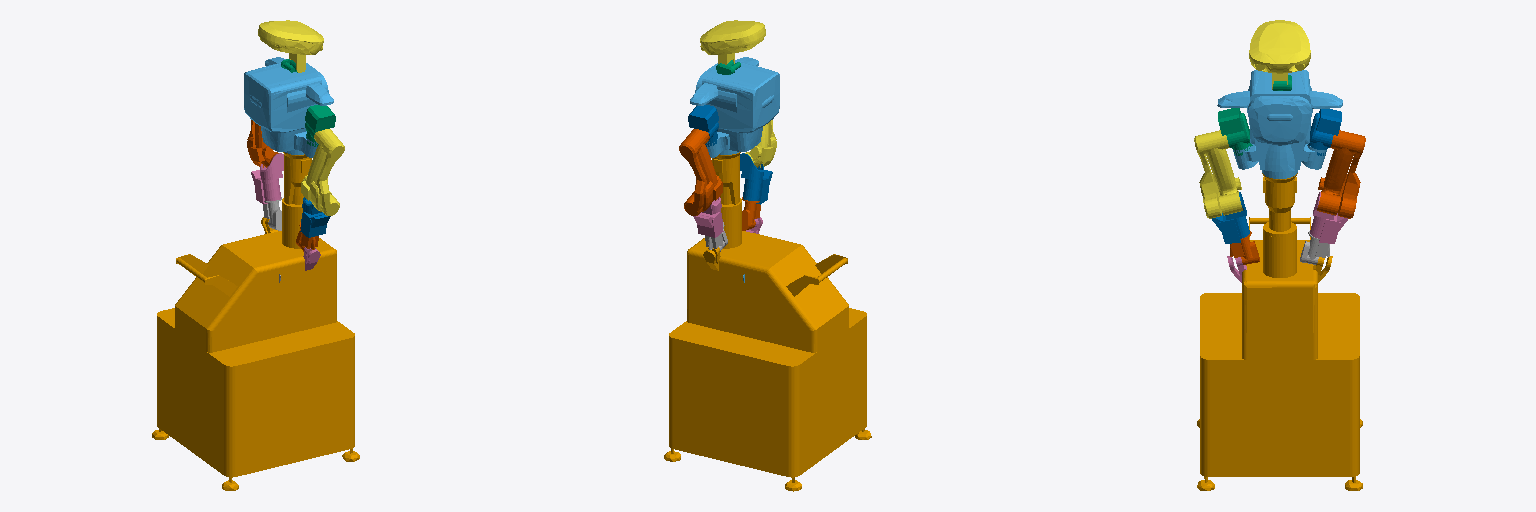
--- Render facts (derived) ---
Views: 3 orthographic renders of the robot side by side, from view 1: azimuth 30°, elevation 25°; view 2: azimuth 150°, elevation 25°; view 3: azimuth 270°, elevation 25°.
Robot: NextageOpen — 16 links, 15 joints (15 revolute); root link WAIST; default pose: every joint at zero.
Links seen in each view (by area): view 1: WAIST, CHEST_JOINT0_Link, RARM_JOINT1_Link, HEAD_JOINT1_Link, LARM_JOINT2_Link, RARM_JOINT0_Link, RARM_JOINT2_Link, LARM_JOINT1_Link; view 2: WAIST, CHEST_JOINT0_Link, LARM_JOINT1_Link, HEAD_JOINT1_Link, RARM_JOINT2_Link, LARM_JOINT0_Link, LARM_JOINT2_Link, RARM_JOINT1_Link; view 3: WAIST, CHEST_JOINT0_Link, HEAD_JOINT1_Link, LARM_JOINT1_Link, RARM_JOINT1_Link, RARM_JOINT0_Link, LARM_JOINT0_Link, LARM_JOINT2_Link, RARM_JOINT2_Link, LARM_JOINT3_Link, RARM_JOINT3_Link.
Boxes of the visible links, x1,y1,x2,y2 form: WAIST: (152, 152, 359, 490); CHEST_JOINT0_Link: (244, 57, 333, 157); RARM_JOINT1_Link: (301, 129, 344, 215); HEAD_JOINT1_Link: (258, 20, 323, 72); LARM_JOINT2_Link: (251, 153, 283, 204); RARM_JOINT0_Link: (305, 105, 335, 146); RARM_JOINT2_Link: (300, 197, 330, 237); LARM_JOINT1_Link: (247, 120, 278, 167); WAIST: (664, 152, 871, 491); CHEST_JOINT0_Link: (690, 57, 779, 157); LARM_JOINT1_Link: (679, 129, 722, 215); HEAD_JOINT1_Link: (700, 20, 765, 64); RARM_JOINT2_Link: (740, 153, 772, 204); LARM_JOINT0_Link: (688, 105, 718, 146); LARM_JOINT2_Link: (693, 197, 723, 237); RARM_JOINT1_Link: (745, 120, 776, 167); WAIST: (1197, 173, 1362, 490); CHEST_JOINT0_Link: (1217, 70, 1342, 178); HEAD_JOINT1_Link: (1249, 20, 1310, 89); LARM_JOINT1_Link: (1317, 130, 1365, 218); RARM_JOINT1_Link: (1194, 130, 1242, 218); RARM_JOINT0_Link: (1218, 108, 1252, 155); LARM_JOINT0_Link: (1308, 109, 1341, 155); LARM_JOINT2_Link: (1310, 192, 1347, 243); RARM_JOINT2_Link: (1212, 192, 1249, 243); LARM_JOINT3_Link: (1300, 231, 1329, 264); RARM_JOINT3_Link: (1230, 231, 1259, 264).
Size in the robot's own frame: 0.5874 by 0.6096 by 1.73 metres.
16 mesh visuals loaded from 16 distinct referenced files (16 OBJ).

The robot description file, URDF, robot "NextageOpen":
<?xml version="1.0" ?>
<!-- =================================================================================== -->
<!-- |    This document was autogenerated by xacro from ./core/nextage_description/urdf/NextageOpenObj.urdf | -->
<!-- |    EDITING THIS FILE BY HAND IS NOT RECOMMENDED                                 | -->
<!-- =================================================================================== -->
<robot name="NextageOpen" xmlns:body="http://playerstage.sourceforge.net/gazebo/xmlschema/#body" xmlns:controller="http://playerstage.sourceforge.net/gazebo/xmlschema/#controller" xmlns:gazebo="http://playerstage.sourceforge.net/gazebo/xmlschema/#gz" xmlns:geom="http://playerstage.sourceforge.net/gazebo/xmlschema/#geom" xmlns:interface="http://playerstage.sourceforge.net/gazebo/xmlschema/#interface" xmlns:joint="http://playerstage.sourceforge.net/gazebo/xmlschema/#joint" xmlns:model="http://playerstage.sourceforge.net/gazebo/xmlschema/#model" xmlns:physics="http://playerstage.sourceforge.net/gazebo/xmlschema/#physics" xmlns:renderable="http://playerstage.sourceforge.net/gazebo/xmlschema/#renderable" xmlns:rendering="http://playerstage.sourceforge.net/gazebo/xmlschema/#rendering" xmlns:sensor="http://playerstage.sourceforge.net/gazebo/xmlschema/#sensor" xmlns:xi="http://www.w3.org/2001/XInclude">
  <material name="Black">
    <color rgba="0.0 0.0 0.0 1.0"/>
  </material>
  <material name="Blue">
    <color rgba="0.0 0.0 0.8 1.0"/>
  </material>
  <material name="Green">
    <color rgba="0.0 0.8 0.0 1.0"/>
  </material>
  <material name="LightGrey">
    <color rgba="0.6 0.6 0.6 1.0"/>
  </material>
  <material name="Grey">
    <color rgba="0.4 0.4 0.4 1.0"/>
  </material>
  <material name="DarkGrey">
    <color rgba="0.2 0.2 0.2 1.0"/>
  </material>
  <material name="Red">
    <color rgba="0.8 0.0 0.0 1.0"/>
  </material>
  <material name="White">
    <color rgba="1.0 1.0 1.0 1.0"/>
  </material>
  <gazebo reference="gazebo_WAIST">
    <material>Gazebo/Black</material>
  </gazebo>
  <link name="WAIST">
    <visual>
      <origin rpy="0 -0 0" xyz="0 0 0.97"/>
      <geometry>
        <mesh filename="package://nextage_description/urdf/meshes/WAIST_Link_mesh.obj" scale="1 1 1"/>
      </geometry>
    </visual>
    <collision>
      <origin rpy="0 -0 0" xyz="0 0 0.97"/>
      <geometry>
        <mesh filename="package://nextage_description/urdf/meshes/WAIST_Link_mesh.obj" scale="1 1 1"/>
      </geometry>
    </collision>
    <inertial>
      <mass value="1000"/>
      <origin rpy="0 -0 0" xyz="0 0 0"/>
      <inertia ixx="20" ixy="0" ixz="0" iyy="20" iyz="0" izz="20"/>
    </inertial>
  </link>
  <gazebo reference="gazebo_CHEST_JOINT0_Link">
    <material>Gazebo/Black</material>
  </gazebo>
  <link name="CHEST_JOINT0_Link">
    <visual>
      <origin rpy="0 -0 0" xyz="0 0 0"/>
      <geometry>
        <mesh filename="package://nextage_description/urdf/meshes/CHEST_JOINT0_Link_mesh.obj" scale="1 1 1"/>
      </geometry>
    </visual>
    <collision>
      <origin rpy="0 -0 0" xyz="0 0 0"/>
      <geometry>
        <mesh filename="package://nextage_description/urdf/meshes/CHEST_JOINT0_Link_mesh.obj" scale="1 1 1"/>
      </geometry>
    </collision>
    <inertial>
      <mass value="3.0"/>
      <origin rpy="0 -0 0" xyz="0 0 0"/>
      <inertia ixx="0.0639575" ixy="-0.00022833" ixz="0.00011172" iyy="0.0310845" iyz="6.48e-05" izz="0.0501107"/>
    </inertial>
  </link>
  <gazebo reference="gazebo_HEAD_JOINT0_Link">
    <material>Gazebo/Black</material>
  </gazebo>
  <link name="HEAD_JOINT0_Link">
    <visual>
      <origin rpy="0 -0 0" xyz="0 0 0.5695"/>
      <geometry>
        <mesh filename="package://nextage_description/urdf/meshes/HEAD_JOINT0_Link_mesh.obj" scale="1 1 1"/>
      </geometry>
    </visual>
    <collision>
      <origin rpy="0 -0 0" xyz="0 0 0.5695"/>
      <geometry>
        <mesh filename="package://nextage_description/urdf/meshes/HEAD_JOINT0_Link_mesh.obj" scale="1 1 1"/>
      </geometry>
    </collision>
    <inertial>
      <mass value="0.317929"/>
      <origin rpy="0 -0 0" xyz="-2.292e-05 0.00547848 -0.00784016"/>
      <inertia ixx="0.00027682" ixy="3e-08" ixz="-3.3e-07" iyy="0.00013009" iyz="-1.092e-05" izz="0.00020954"/>
    </inertial>
  </link>
  <gazebo reference="gazebo_HEAD_JOINT1_Link">
    <material>Gazebo/Black</material>
  </gazebo>
  <link name="HEAD_JOINT1_Link">
    <visual>
      <origin rpy="0 -0 0" xyz="0 0 0"/>
      <geometry>
        <mesh filename="package://nextage_description/urdf/meshes/HEAD_JOINT1_Link_mesh.obj" scale="1 1 1"/>
      </geometry>
    </visual>
    <collision>
      <origin rpy="0 -0 0" xyz="0 0 0"/>
      <geometry>
        <mesh filename="package://nextage_description/urdf/meshes/HEAD_JOINT1_Link_mesh.obj" scale="1 1 1"/>
      </geometry>
    </collision>
    <inertial>
      <mass value="0.0808593"/>
      <!-- <origin xyz="5.02e-06 -0.0166777 0.0163153" rpy="0 -0 0"/> -->
      <!-- <inertia ixx="8.07e-05" ixy="-3e-08" ixz="-4.30134e-22" iyy="3.025e-05" iyz="-1.277e-05" izz="6.637e-05"/> -->
      <inertia ixx="1e-3" ixy="0" ixz="0" iyy="1e-3" iyz="0" izz="1e-3"/>
    </inertial>
  </link>
  <gazebo reference="gazebo_LARM_JOINT0_Link">
    <material>Gazebo/Black</material>
  </gazebo>
  <link name="LARM_JOINT0_Link">
    <visual>
      <origin rpy="-0.261799 0 0" xyz="0 0.145 0.370296"/>
      <geometry>
        <mesh filename="package://nextage_description/urdf/meshes/LARM_JOINT0_Link_mesh.obj" scale="1 1 1"/>
      </geometry>
    </visual>
    <collision>
      <origin rpy="-0.261799 0 0" xyz="0 0.145 0.370296"/>
      <geometry>
        <mesh filename="package://nextage_description/urdf/meshes/LARM_JOINT0_Link_mesh.obj" scale="1 1 1"/>
      </geometry>
    </collision>
    <inertial>
      <mass value="1.32626"/>
      <origin rpy="0 -0 0" xyz="-0.00226388 -0.00521383 0.0156081"/>
      <inertia ixx="0.00207537" ixy="0.00011276" ixz="8.927e-05" iyy="0.00240295" iyz="-4.57e-05" izz="0.00141912"/>
    </inertial>
  </link>
  <gazebo reference="gazebo_LARM_JOINT1_Link">
    <material>Gazebo/Black</material>
  </gazebo>
  <link name="LARM_JOINT1_Link">
    <visual>
      <origin rpy="0 -0 0" xyz="0 0 0"/>
      <geometry>
        <mesh filename="package://nextage_description/urdf/meshes/LARM_JOINT1_Link_mesh.obj" scale="1 1 1"/>
      </geometry>
    </visual>
    <collision>
      <origin rpy="0 -0 0" xyz="0 0 0"/>
      <geometry>
        <mesh filename="package://nextage_description/urdf/meshes/LARM_JOINT1_Link_mesh.obj" scale="1 1 1"/>
      </geometry>
    </collision>
    <inertial>
      <mass value="1.14898"/>
      <origin rpy="0 -0 0" xyz="-5.236e-05 0.0583134 -0.107061"/>
      <inertia ixx="0.0154168" ixy="9.95417e-07" ixz="3.38147e-06" iyy="0.0147117" iyz="0.00213719" izz="0.0012658"/>
    </inertial>
  </link>
  <gazebo reference="gazebo_LARM_JOINT2_Link">
    <material>Gazebo/Black</material>
  </gazebo>
  <link name="LARM_JOINT2_Link">
    <visual>
      <origin rpy="0 -0 0" xyz="0 0.095 -0.25"/>
      <geometry>
        <mesh filename="package://nextage_description/urdf/meshes/LARM_JOINT2_Link_mesh.obj" scale="1 1 1"/>
      </geometry>
    </visual>
    <collision>
      <origin rpy="0 -0 0" xyz="0 0.095 -0.25"/>
      <geometry>
        <mesh filename="package://nextage_description/urdf/meshes/LARM_JOINT2_Link_mesh.obj" scale="1 1 1"/>
      </geometry>
    </collision>
    <inertial>
      <mass value="0.577518"/>
      <origin rpy="0 -0 0" xyz="-2.254e-05 0.00167107 -0.0715116"/>
      <inertia ixx="0.00143966" ixy="-3e-07" ixz="1.2e-06" iyy="0.00141763" iyz="-7.596e-05" izz="0.0001972"/>
    </inertial>
  </link>
  <gazebo reference="gazebo_LARM_JOINT3_Link">
    <material>Gazebo/Black</material>
  </gazebo>
  <link name="LARM_JOINT3_Link">
    <visual>
      <origin rpy="0 -0 0" xyz="-0.03 0 0"/>
      <geometry>
        <mesh filename="package://nextage_description/urdf/meshes/LARM_JOINT3_Link_mesh.obj" scale="1 1 1"/>
      </geometry>
    </visual>
    <collision>
      <origin rpy="0 -0 0" xyz="-0.03 0 0"/>
      <geometry>
        <mesh filename="package://nextage_description/urdf/meshes/LARM_JOINT3_Link_mesh.obj" scale="1 1 1"/>
      </geometry>
    </collision>
    <inertial>
      <mass value="0.457418"/>
      <origin rpy="0 -0 0" xyz="-1.788e-05 -0.00395812 -0.20273"/>
      <inertia ixx="0.00069205" ixy="3e-08" ixz="5.2e-07" iyy="0.00068903" iyz="-1.915e-05" izz="0.00013509"/>
    </inertial>
  </link>
  <gazebo reference="gazebo_LARM_JOINT4_Link">
    <material>Gazebo/Black</material>
  </gazebo>
  <link name="LARM_JOINT4_Link">
    <visual>
      <origin rpy="0 -0 0" xyz="0 0 -0.235"/>
      <geometry>
        <mesh filename="package://nextage_description/urdf/meshes/LARM_JOINT4_Link_mesh.obj" scale="1 1 1"/>
      </geometry>
    </visual>
    <collision>
      <origin rpy="0 -0 0" xyz="0 0 -0.235"/>
      <geometry>
        <mesh filename="package://nextage_description/urdf/meshes/LARM_JOINT4_Link_mesh.obj" scale="1 1 1"/>
      </geometry>
    </collision>
    <inertial>
      <mass value="0.418434"/>
      <origin rpy="0 -0 0" xyz="0.00243131 0.00379733 -0.0577036"/>
      <inertia ixx="0.00052016" ixy="1.69e-06" ixz="7.9e-06" iyy="0.00050569" iyz="-5.377e-05" izz="0.00014004"/>
    </inertial>
  </link>
  <gazebo reference="gazebo_LARM_JOINT5_Link">
    <material>Gazebo/Black</material>
  </gazebo>
  <link name="LARM_JOINT5_Link">
    <visual>
      <origin rpy="0 -0 0" xyz="-0.047 0 -0.09"/>
      <geometry>
        <mesh filename="package://nextage_description/urdf/meshes/LARM_JOINT5_Link_mesh.obj" scale="1 1 1"/>
      </geometry>
    </visual>
    <collision>
      <origin rpy="0 -0 0" xyz="-0.047 0 -0.09"/>
      <geometry>
        <mesh filename="package://nextage_description/urdf/meshes/LARM_JOINT5_Link_mesh.obj" scale="1 1 1"/>
      </geometry>
    </collision>
    <inertial>
      <mass value="1.05156"/>
      <origin rpy="0 -0 0" xyz="-0.048476 -3.2e-06 -0.0388988"/>
      <inertia ixx="0.00194072" ixy="1.1e-07" ixz="-0.00042482" iyy="0.00209392" iyz="1.2e-07" izz="0.00035788"/>
    </inertial>
  </link>
  <gazebo reference="gazebo_RARM_JOINT0_Link">
    <material>Gazebo/Black</material>
  </gazebo>
  <link name="RARM_JOINT0_Link">
    <visual>
      <origin rpy="0.261799 -0 0" xyz="0 -0.145 0.370296"/>
      <geometry>
        <mesh filename="package://nextage_description/urdf/meshes/RARM_JOINT0_Link_mesh.obj" scale="1 1 1"/>
      </geometry>
    </visual>
    <collision>
      <origin rpy="0.261799 -0 0" xyz="0 -0.145 0.370296"/>
      <geometry>
        <mesh filename="package://nextage_description/urdf/meshes/RARM_JOINT0_Link_mesh.obj" scale="1 1 1"/>
      </geometry>
    </collision>
    <inertial>
      <mass value="1.32626"/>
      <origin rpy="0 -0 0" xyz="-0.00226388 0.00521383 0.0156081"/>
      <inertia ixx="0.00207537" ixy="-0.00011276" ixz="8.927e-05" iyy="0.00240295" iyz="4.57e-05" izz="0.00141912"/>
    </inertial>
  </link>
  <gazebo reference="gazebo_RARM_JOINT1_Link">
    <material>Gazebo/Black</material>
  </gazebo>
  <link name="RARM_JOINT1_Link">
    <visual>
      <origin rpy="0 -0 0" xyz="0 0 0"/>
      <geometry>
        <mesh filename="package://nextage_description/urdf/meshes/RARM_JOINT1_Link_mesh.obj" scale="1 1 1"/>
      </geometry>
    </visual>
    <collision>
      <origin rpy="0 -0 0" xyz="0 0 0"/>
      <geometry>
        <mesh filename="package://nextage_description/urdf/meshes/RARM_JOINT1_Link_mesh.obj" scale="1 1 1"/>
      </geometry>
    </collision>
    <inertial>
      <mass value="1.14898"/>
      <origin rpy="0 -0 0" xyz="-5.236e-05 -0.0583134 -0.107061"/>
      <inertia ixx="0.0154168" ixy="-9.95417e-07" ixz="3.38147e-06" iyy="0.0147117" iyz="-0.00213719" izz="0.0012658"/>
    </inertial>
  </link>
  <gazebo reference="gazebo_RARM_JOINT2_Link">
    <material>Gazebo/Black</material>
  </gazebo>
  <link name="RARM_JOINT2_Link">
    <visual>
      <origin rpy="0 -0 0" xyz="0 -0.095 -0.25"/>
      <geometry>
        <mesh filename="package://nextage_description/urdf/meshes/RARM_JOINT2_Link_mesh.obj" scale="1 1 1"/>
      </geometry>
    </visual>
    <collision>
      <origin rpy="0 -0 0" xyz="0 -0.095 -0.25"/>
      <geometry>
        <mesh filename="package://nextage_description/urdf/meshes/RARM_JOINT2_Link_mesh.obj" scale="1 1 1"/>
      </geometry>
    </collision>
    <inertial>
      <mass value="0.577518"/>
      <origin rpy="0 -0 0" xyz="-2.254e-05 -0.00167107 -0.0715116"/>
      <inertia ixx="0.00143966" ixy="3e-07" ixz="1.2e-06" iyy="0.00141763" iyz="7.596e-05" izz="0.0001972"/>
    </inertial>
  </link>
  <gazebo reference="gazebo_RARM_JOINT4_Link">
    <material>Gazebo/Black</material>
  </gazebo>
  <link name="RARM_JOINT3_Link">
    <visual>
      <origin rpy="0 -0 0" xyz="-0.03 0 0"/>
      <geometry>
        <mesh filename="package://nextage_description/urdf/meshes/RARM_JOINT3_Link_mesh.obj" scale="1 1 1"/>
      </geometry>
    </visual>
    <collision>
      <origin rpy="0 -0 0" xyz="-0.03 0 0"/>
      <geometry>
        <mesh filename="package://nextage_description/urdf/meshes/RARM_JOINT3_Link_mesh.obj" scale="1 1 1"/>
      </geometry>
    </collision>
    <inertial>
      <mass value="0.457418"/>
      <origin rpy="0 -0 0" xyz="-1.788e-05 0.00395812 -0.20273"/>
      <inertia ixx="0.00069205" ixy="-3e-08" ixz="5.2e-07" iyy="0.00068903" iyz="1.915e-05" izz="0.00013509"/>
    </inertial>
  </link>
  <gazebo reference="gazebo_RARM_JOINT4_Link">
    <material>Gazebo/Black</material>
  </gazebo>
  <link name="RARM_JOINT4_Link">
    <visual>
      <origin rpy="0 -0 0" xyz="0 0 -0.235"/>
      <geometry>
        <mesh filename="package://nextage_description/urdf/meshes/RARM_JOINT4_Link_mesh.obj" scale="1 1 1"/>
      </geometry>
    </visual>
    <collision>
      <origin rpy="0 -0 0" xyz="0 0 -0.235"/>
      <geometry>
        <mesh filename="package://nextage_description/urdf/meshes/RARM_JOINT4_Link_mesh.obj" scale="1 1 1"/>
      </geometry>
    </collision>
    <inertial>
      <mass value="0.418434"/>
      <origin rpy="0 -0 0" xyz="0.00243131 -0.00379733 -0.0577036"/>
      <inertia ixx="0.00052016" ixy="-1.69e-06" ixz="7.9e-06" iyy="0.00050569" iyz="5.377e-05" izz="0.00014004"/>
    </inertial>
  </link>
  <gazebo reference="gazebo_RARM_JOINT5_Link">
    <material>Gazebo/Black</material>
  </gazebo>
  <link name="RARM_JOINT5_Link">
    <visual>
      <origin rpy="0 -0 0" xyz="-0.047 0 -0.09"/>
      <geometry>
        <mesh filename="package://nextage_description/urdf/meshes/RARM_JOINT5_Link_mesh.obj" scale="1 1 1"/>
      </geometry>
    </visual>
    <collision>
      <origin rpy="0 -0 0" xyz="-0.047 0 -0.09"/>
      <geometry>
        <mesh filename="package://nextage_description/urdf/meshes/RARM_JOINT5_Link_mesh.obj" scale="1 1 1"/>
      </geometry>
    </collision>
    <inertial>
      <mass value="1.05156"/>
      <origin rpy="0 -0 0" xyz="-0.048476 3.2e-06 -0.0388988"/>
      <inertia ixx="0.00194072" ixy="-1.1e-07" ixz="-0.00042482" iyy="0.00209392" iyz="-1.2e-07" izz="0.00035788"/>
    </inertial>
  </link>
  <transmission name="CHEST_JOINT0_Trans">
    <type>transmission_interface/SimpleTransmission</type>
    <joint name="CHEST_JOINT0">
      <hardwareInterface>EffortJointInterface</hardwareInterface>
    </joint>
    <actuator name="CHEST_JOINT0_Motor">
      <hardwareInterface>EffortJointInterface</hardwareInterface>
      <mechanicalReduction>1</mechanicalReduction>
    </actuator>
  </transmission>
  <joint name="CHEST_JOINT0" type="revolute">
    <parent link="WAIST"/>
    <child link="CHEST_JOINT0_Link"/>
    <origin rpy="0 -0 0 " xyz="0 0 0"/>
    <axis xyz="0 0 1"/>
    <limit effort="100" lower="-2.84489" upper="2.84489" velocity="0.5"/>
    <dynamics damping="0.2" friction="0"/>
  </joint>
  <transmission name="HEAD_JOINT0_Trans">
    <type>transmission_interface/SimpleTransmission</type>
    <joint name="HEAD_JOINT0">
      <hardwareInterface>EffortJointInterface</hardwareInterface>
    </joint>
    <actuator name="HEAD_JOINT0_Motor">
      <hardwareInterface>EffortJointInterface</hardwareInterface>
      <mechanicalReduction>1</mechanicalReduction>
    </actuator>
  </transmission>
  <joint name="HEAD_JOINT0" type="revolute">
    <parent link="CHEST_JOINT0_Link"/>
    <child link="HEAD_JOINT0_Link"/>
    <origin rpy="0 -0 0 " xyz="0 0 0.5695"/>
    <axis xyz="0 0 1"/>
    <limit effort="100" lower="-1.22173" upper="1.22173" velocity="0.5"/>
    <dynamics damping="0.2" friction="0"/>
  </joint>
  <transmission name="HEAD_JOINT1_Trans">
    <type>transmission_interface/SimpleTransmission</type>
    <joint name="HEAD_JOINT1">
      <hardwareInterface>EffortJointInterface</hardwareInterface>
    </joint>
    <actuator name="HEAD_JOINT1_Motor">
      <hardwareInterface>EffortJointInterface</hardwareInterface>
      <mechanicalReduction>1</mechanicalReduction>
    </actuator>
  </transmission>
  <joint name="HEAD_JOINT1" type="revolute">
    <parent link="HEAD_JOINT0_Link"/>
    <child link="HEAD_JOINT1_Link"/>
    <origin rpy="0 -0 0 " xyz="0 0 0"/>
    <axis xyz="0 1 0"/>
    <limit effort="100" lower="-0.349066" upper="1.22173" velocity="0.5"/>
    <dynamics damping="0.2" friction="0"/>
  </joint>
  <transmission name="LARM_JOINT0_Trans">
    <type>transmission_interface/SimpleTransmission</type>
    <joint name="LARM_JOINT0">
      <hardwareInterface>EffortJointInterface</hardwareInterface>
    </joint>
    <actuator name="LARM_JOINT0_Motor">
      <hardwareInterface>EffortJointInterface</hardwareInterface>
      <mechanicalReduction>1</mechanicalReduction>
    </actuator>
  </transmission>
  <joint name="LARM_JOINT0" type="revolute">
    <parent link="CHEST_JOINT0_Link"/>
    <child link="LARM_JOINT0_Link"/>
    <origin rpy="-0.261799 0 0 " xyz="0 0.145 0.370296"/>
    <axis xyz="0 0 1"/>
    <limit effort="150" lower="-1.53589" upper="1.53589" velocity="0.5"/>
    <dynamics damping="0.2" friction="0"/>
  </joint>
  <transmission name="LARM_JOINT1_Trans">
    <type>transmission_interface/SimpleTransmission</type>
    <joint name="LARM_JOINT1">
      <hardwareInterface>EffortJointInterface</hardwareInterface>
    </joint>
    <actuator name="LARM_JOINT1_Motor">
      <hardwareInterface>EffortJointInterface</hardwareInterface>
      <mechanicalReduction>1</mechanicalReduction>
    </actuator>
  </transmission>
  <joint name="LARM_JOINT1" type="revolute">
    <parent link="LARM_JOINT0_Link"/>
    <child link="LARM_JOINT1_Link"/>
    <origin rpy="0 -0 0 " xyz="0 0 0"/>
    <axis xyz="0 1 0"/>
    <limit effort="200" lower="-2.44346" upper="1.0472" velocity="0.5"/>
    <dynamics damping="0.2" friction="0"/>
  </joint>
  <transmission name="LARM_JOINT2_Trans">
    <type>transmission_interface/SimpleTransmission</type>
    <joint name="LARM_JOINT2">
      <hardwareInterface>EffortJointInterface</hardwareInterface>
    </joint>
    <actuator name="LARM_JOINT2_Motor">
      <hardwareInterface>EffortJointInterface</hardwareInterface>
      <mechanicalReduction>1</mechanicalReduction>
    </actuator>
  </transmission>
  <joint name="LARM_JOINT2" type="revolute">
    <parent link="LARM_JOINT1_Link"/>
    <child link="LARM_JOINT2_Link"/>
    <origin rpy="0 -0 0 " xyz="0 0.095 -0.25"/>
    <axis xyz="0 1 0"/>
    <limit effort="100" lower="-2.75762" upper="0" velocity="0.5"/>
    <dynamics damping="0.2" friction="0"/>
  </joint>
  <transmission name="LARM_JOINT3_Trans">
    <type>transmission_interface/SimpleTransmission</type>
    <joint name="LARM_JOINT3">
      <hardwareInterface>EffortJointInterface</hardwareInterface>
    </joint>
    <actuator name="LARM_JOINT3_Motor">
      <hardwareInterface>EffortJointInterface</hardwareInterface>
      <mechanicalReduction>1</mechanicalReduction>
    </actuator>
  </transmission>
  <joint name="LARM_JOINT3" type="revolute">
    <parent link="LARM_JOINT2_Link"/>
    <child link="LARM_JOINT3_Link"/>
    <origin rpy="0 -0 0 " xyz="-0.03 0 0"/>
    <axis xyz="0 0 1"/>
    <limit effort="100" lower="-1.8326" upper="2.87979" velocity="0.5"/>
    <dynamics damping="0.2" friction="0"/>
  </joint>
  <transmission name="LARM_JOINT4_Trans">
    <type>transmission_interface/SimpleTransmission</type>
    <joint name="LARM_JOINT4">
      <hardwareInterface>EffortJointInterface</hardwareInterface>
    </joint>
    <actuator name="LARM_JOINT4_Motor">
      <hardwareInterface>EffortJointInterface</hardwareInterface>
      <mechanicalReduction>1</mechanicalReduction>
    </actuator>
  </transmission>
  <joint name="LARM_JOINT4" type="revolute">
    <parent link="LARM_JOINT3_Link"/>
    <child link="LARM_JOINT4_Link"/>
    <origin rpy="0 -0 0 " xyz="0 0 -0.235"/>
    <axis xyz="0 1 0"/>
    <limit effort="100" lower="-1.74533" upper="1.74533" velocity="0.5"/>
    <dynamics damping="0.2" friction="0"/>
  </joint>
  <transmission name="LARM_JOINT5_Trans">
    <type>transmission_interface/SimpleTransmission</type>
    <joint name="LARM_JOINT5">
      <hardwareInterface>EffortJointInterface</hardwareInterface>
    </joint>
    <actuator name="LARM_JOINT5_Motor">
      <hardwareInterface>EffortJointInterface</hardwareInterface>
      <mechanicalReduction>1</mechanicalReduction>
    </actuator>
  </transmission>
  <joint name="LARM_JOINT5" type="revolute">
    <parent link="LARM_JOINT4_Link"/>
    <child link="LARM_JOINT5_Link"/>
    <origin rpy="0 -0 0 " xyz="-0.047 0 -0.09"/>
    <axis xyz="1 0 0"/>
    <limit effort="100" lower="-2.84489" upper="2.84489" velocity="0.5"/>
    <dynamics damping="0.2" friction="0"/>
  </joint>
  <transmission name="RARM_JOINT0_Trans">
    <type>transmission_interface/SimpleTransmission</type>
    <joint name="RARM_JOINT0">
      <hardwareInterface>EffortJointInterface</hardwareInterface>
    </joint>
    <actuator name="RARM_JOINT0_Motor">
      <hardwareInterface>EffortJointInterface</hardwareInterface>
      <mechanicalReduction>1</mechanicalReduction>
    </actuator>
  </transmission>
  <joint name="RARM_JOINT0" type="revolute">
    <parent link="CHEST_JOINT0_Link"/>
    <child link="RARM_JOINT0_Link"/>
    <origin rpy="0.261799 -0 0 " xyz="0 -0.145 0.370296"/>
    <axis xyz="0 0 1"/>
    <limit effort="150" lower="-1.53589" upper="1.53589" velocity="0.5"/>
    <dynamics damping="0.2" friction="0"/>
  </joint>
  <transmission name="RARM_JOINT1_Trans">
    <type>transmission_interface/SimpleTransmission</type>
    <joint name="RARM_JOINT1">
      <hardwareInterface>EffortJointInterface</hardwareInterface>
    </joint>
    <actuator name="RARM_JOINT1_Motor">
      <hardwareInterface>EffortJointInterface</hardwareInterface>
      <mechanicalReduction>1</mechanicalReduction>
    </actuator>
  </transmission>
  <joint name="RARM_JOINT1" type="revolute">
    <parent link="RARM_JOINT0_Link"/>
    <child link="RARM_JOINT1_Link"/>
    <origin rpy="0 -0 0 " xyz="0 0 0"/>
    <axis xyz="0 1 0"/>
    <limit effort="200" lower="-2.44346" upper="1.0472" velocity="0.5"/>
    <dynamics damping="0.2" friction="0"/>
  </joint>
  <transmission name="RARM_JOINT2_Trans">
    <type>transmission_interface/SimpleTransmission</type>
    <joint name="RARM_JOINT2">
      <hardwareInterface>EffortJointInterface</hardwareInterface>
    </joint>
    <actuator name="RARM_JOINT2_Motor">
      <hardwareInterface>EffortJointInterface</hardwareInterface>
      <mechanicalReduction>1</mechanicalReduction>
    </actuator>
  </transmission>
  <joint name="RARM_JOINT2" type="revolute">
    <parent link="RARM_JOINT1_Link"/>
    <child link="RARM_JOINT2_Link"/>
    <origin rpy="0 -0 0 " xyz="0 -0.095 -0.25"/>
    <axis xyz="0 1 0"/>
    <limit effort="100" lower="-2.75762" upper="0" velocity="0.5"/>
    <dynamics damping="0.2" friction="0"/>
  </joint>
  <transmission name="RARM_JOINT3_Trans">
    <type>transmission_interface/SimpleTransmission</type>
    <joint name="RARM_JOINT3">
      <hardwareInterface>EffortJointInterface</hardwareInterface>
    </joint>
    <actuator name="RARM_JOINT3_Motor">
      <hardwareInterface>EffortJointInterface</hardwareInterface>
      <mechanicalReduction>1</mechanicalReduction>
    </actuator>
  </transmission>
  <joint name="RARM_JOINT3" type="revolute">
    <parent link="RARM_JOINT2_Link"/>
    <child link="RARM_JOINT3_Link"/>
    <origin rpy="0 -0 0 " xyz="-0.03 0 0"/>
    <axis xyz="0 0 1"/>
    <limit effort="100" lower="-2.87979" upper="1.8326" velocity="0.5"/>
    <dynamics damping="0.2" friction="0"/>
  </joint>
  <transmission name="RARM_JOINT4_Trans">
    <type>transmission_interface/SimpleTransmission</type>
    <joint name="RARM_JOINT4">
      <hardwareInterface>EffortJointInterface</hardwareInterface>
    </joint>
    <actuator name="RARM_JOINT4_Motor">
      <hardwareInterface>EffortJointInterface</hardwareInterface>
      <mechanicalReduction>1</mechanicalReduction>
    </actuator>
  </transmission>
  <joint name="RARM_JOINT4" type="revolute">
    <parent link="RARM_JOINT3_Link"/>
    <child link="RARM_JOINT4_Link"/>
    <origin rpy="0 -0 0 " xyz="0 0 -0.235"/>
    <axis xyz="0 1 0"/>
    <limit effort="100" lower="-1.74533" upper="1.74533" velocity="0.5"/>
    <dynamics damping="0.2" friction="0"/>
  </joint>
  <transmission name="RARM_JOINT5_Trans">
    <type>transmission_interface/SimpleTransmission</type>
    <joint name="RARM_JOINT5">
      <hardwareInterface>EffortJointInterface</hardwareInterface>
    </joint>
    <actuator name="RARM_JOINT5_Motor">
      <hardwareInterface>EffortJointInterface</hardwareInterface>
      <mechanicalReduction>1</mechanicalReduction>
    </actuator>
  </transmission>
  <joint name="RARM_JOINT5" type="revolute">
    <parent link="RARM_JOINT4_Link"/>
    <child link="RARM_JOINT5_Link"/>
    <origin rpy="0 -0 0 " xyz="-0.047 0 -0.09"/>
    <axis xyz="1 0 0"/>
    <limit effort="100" lower="-2.84489" upper="2.84489" velocity="0.5"/>
    <dynamics damping="0.2" friction="0"/>
  </joint>
  <!-- Gazebo plugin for ROS Control -->
  <gazebo>
    <plugin filename="libgazebo_ros_control.so" name="gazebo_ros_control">
      <robotNamespace>/</robotNamespace>
      <robotSimType>gazebo_ros_control/DefaultRobotHWSim</robotSimType>
    </plugin>
  </gazebo>
</robot>
